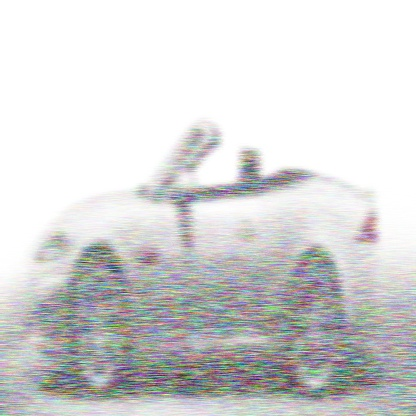Vehicle: (26, 119, 380, 398)
